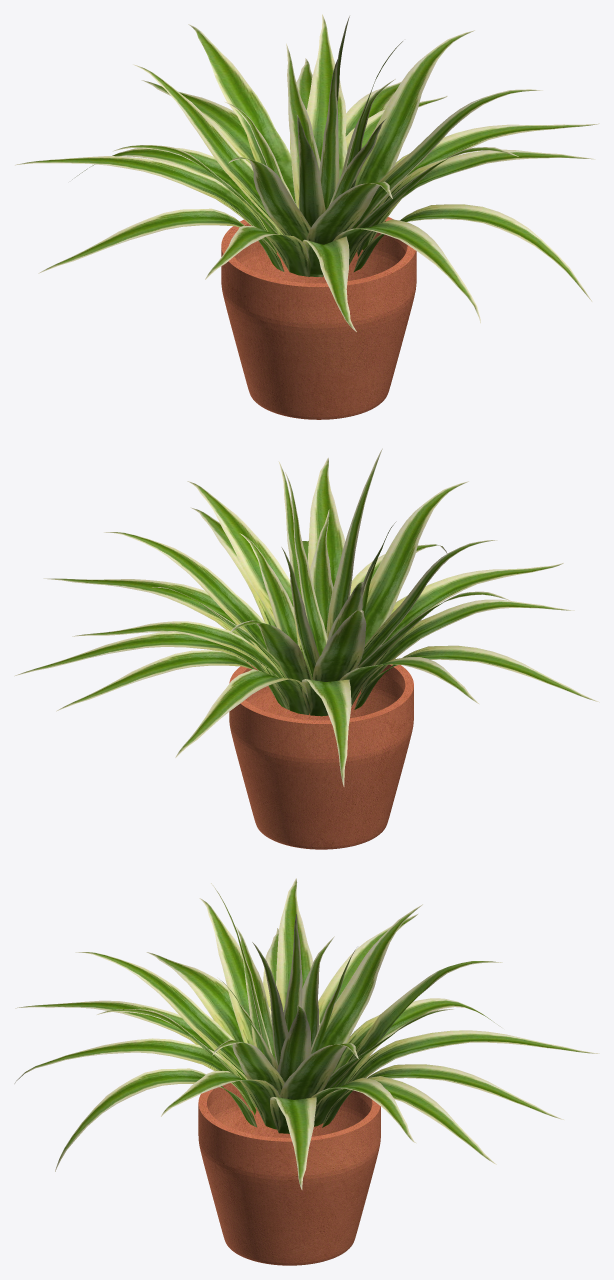
The model's file is spider-plant.obj.
3 renders of one model, top to bottom at view 1: azimuth 30°, elevation 25°; view 2: azimuth 150°, elevation 25°; view 3: azimuth 270°, elevation 25°, orthographic. The views are drawn at different scales.
Parts seen in each view (by area): view 1: Plane.014_Plane.001; view 2: Plane.014_Plane.001; view 3: Plane.014_Plane.001.
Boxes of the visible parts, x1,y1,x2,y2 form: Plane.014_Plane.001: [15, 14, 599, 419]; Plane.014_Plane.001: [14, 448, 599, 849]; Plane.014_Plane.001: [14, 878, 599, 1265].
Size of the model in its own units: 2.13 by 1.31 by 2.01.
1 material, 1 textured.
